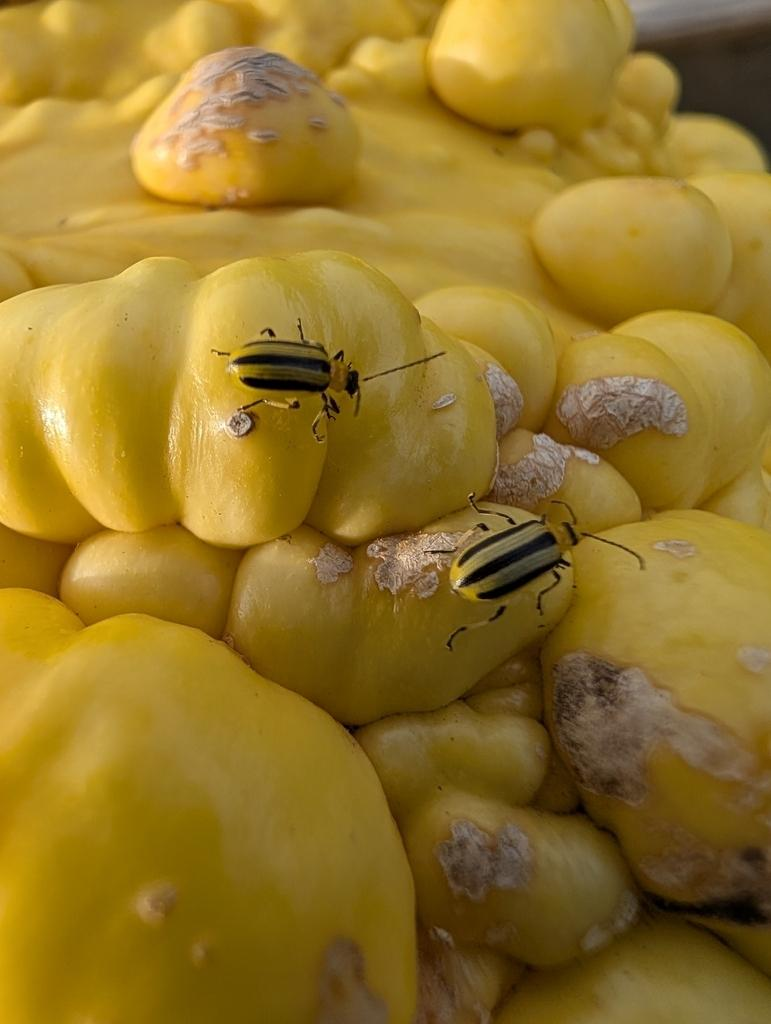potato_beetle: (366, 469, 673, 686), (169, 267, 479, 480)
